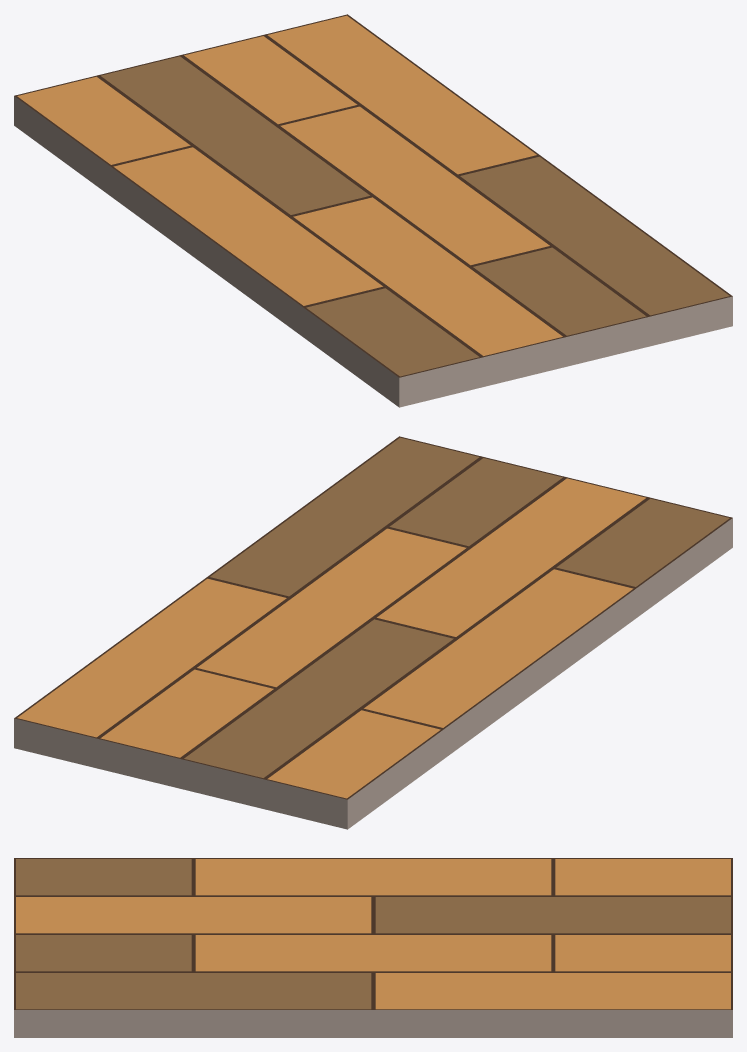
The model's file is Floor_14.fbx.
3 views of the same model, one above another, from view 1: azimuth 30°, elevation 25°; view 2: azimuth 150°, elevation 25°; view 3: azimuth 270°, elevation 25° (orthographic). The views are drawn at different scales.
Parts seen in each view (by area): view 1: Floor_14; view 2: Floor_14; view 3: Floor_14.
Part boxes in pixels (x1,y1,x2,y2): Floor_14: (14, 14, 732, 407); Floor_14: (14, 436, 732, 829); Floor_14: (14, 858, 732, 1037).
Bounding box in the file's own units: 130 × 11.07 × 259.
